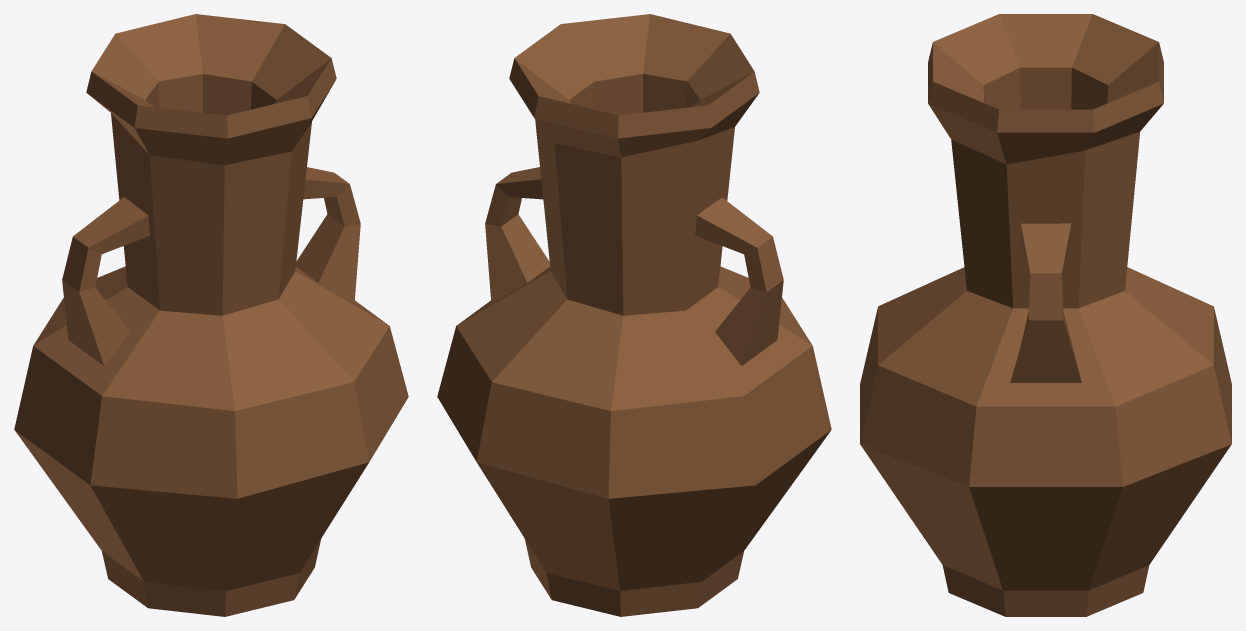
The model's file is egypt_egypt-amphora-tall.fbx.
The picture shows the model from 3 angles, left to right: view 1: azimuth 30°, elevation 25°; view 2: azimuth 150°, elevation 25°; view 3: azimuth 270°, elevation 25°; orthographic projection.
Parts seen in each view (by area): view 1: egypt_egypt_amphora_tall; view 2: egypt_egypt_amphora_tall; view 3: egypt_egypt_amphora_tall.
Part boxes in pixels (x1=…): egypt_egypt_amphora_tall: x1=14, y1=14, x2=408, y2=616; egypt_egypt_amphora_tall: x1=437, y1=14, x2=831, y2=616; egypt_egypt_amphora_tall: x1=860, y1=14, x2=1231, y2=616.
Bounding box in the file's own units: 131 × 200 × 131.
